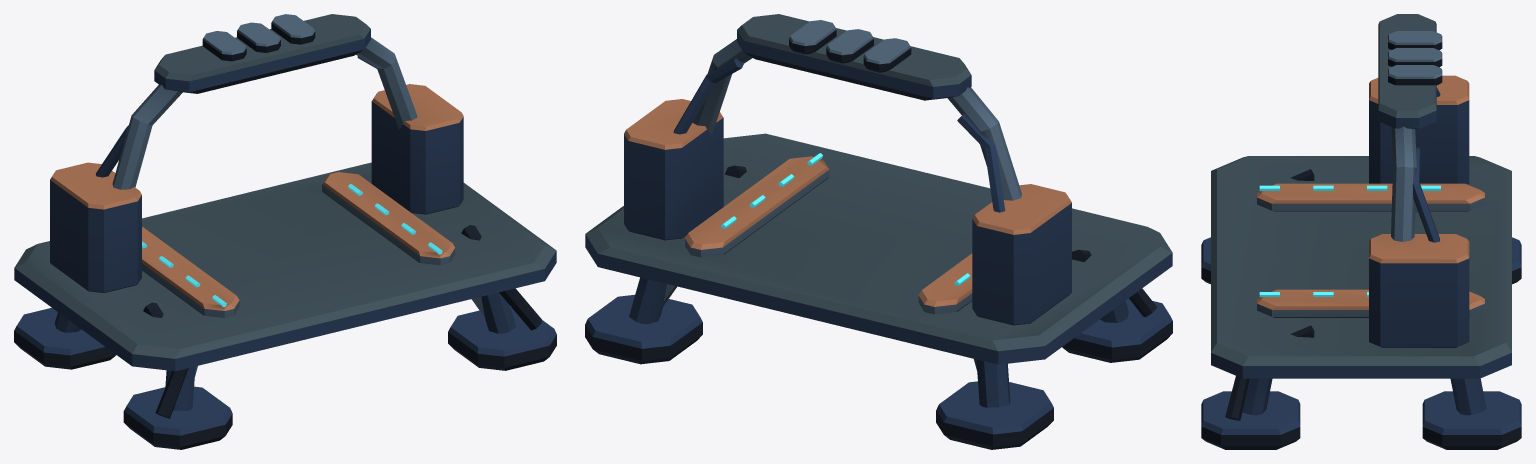
File: abyss-rov-berth.glb
The picture shows the model from 3 angles, left to right: view 1: azimuth 30°, elevation 25°; view 2: azimuth 150°, elevation 25°; view 3: azimuth 270°, elevation 25°; orthographic projection. The views are drawn at different scales.
Visible parts, largest first — view 1: abyss-rov-berth; view 2: abyss-rov-berth; view 3: abyss-rov-berth.
Part boxes in pixels (<box>): abyss-rov-berth: <box>14,14,556,449</box>; abyss-rov-berth: <box>585,14,1172,449</box>; abyss-rov-berth: <box>1201,14,1521,449</box>.
Size of the model in its own units: 7.28 by 4.86 by 4.72.
